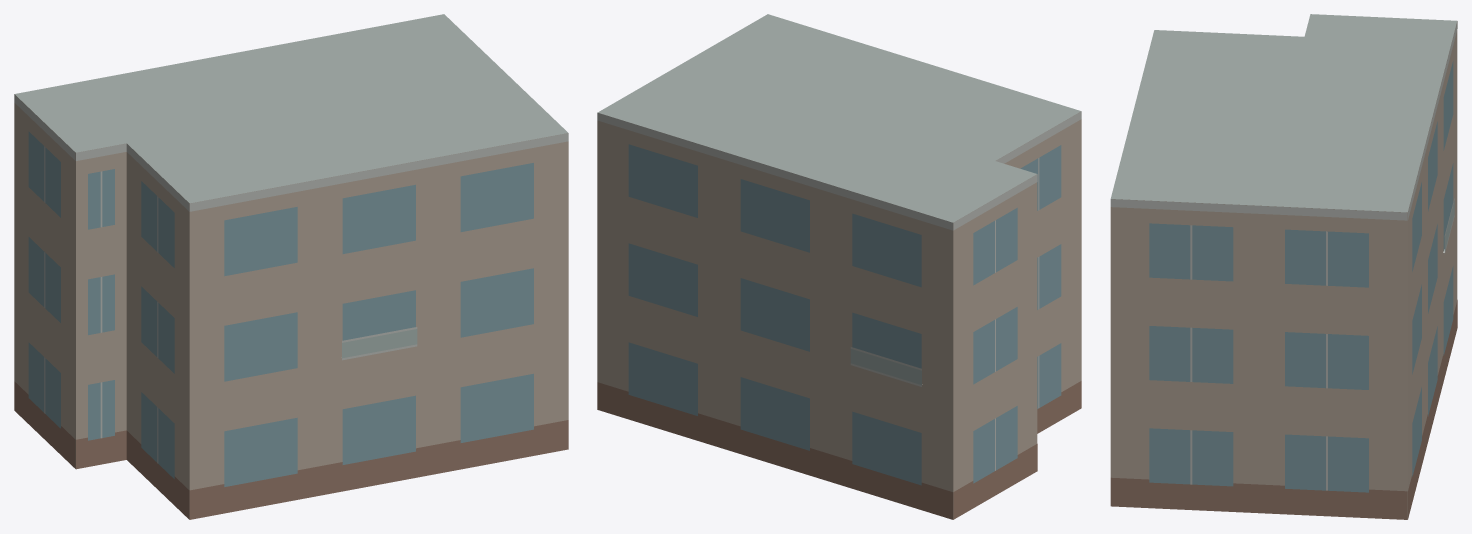
The model's file is survey-upis-32804054.glb.
3 renders of one model, left to right at view 1: azimuth 30°, elevation 25°; view 2: azimuth 150°, elevation 25°; view 3: azimuth 270°, elevation 25°, orthographic. The views are drawn at different scales.
Parts seen in each view (by area): view 1: survey-upis-32804054.tmp; view 2: survey-upis-32804054.tmp; view 3: survey-upis-32804054.tmp.
Part boxes in pixels (x1,y1,x2,y2): survey-upis-32804054.tmp: (14,14,568,519); survey-upis-32804054.tmp: (597,14,1081,519); survey-upis-32804054.tmp: (1110,14,1457,519).
Size of the model in its own units: 12.67 by 9.15 by 9.36.
